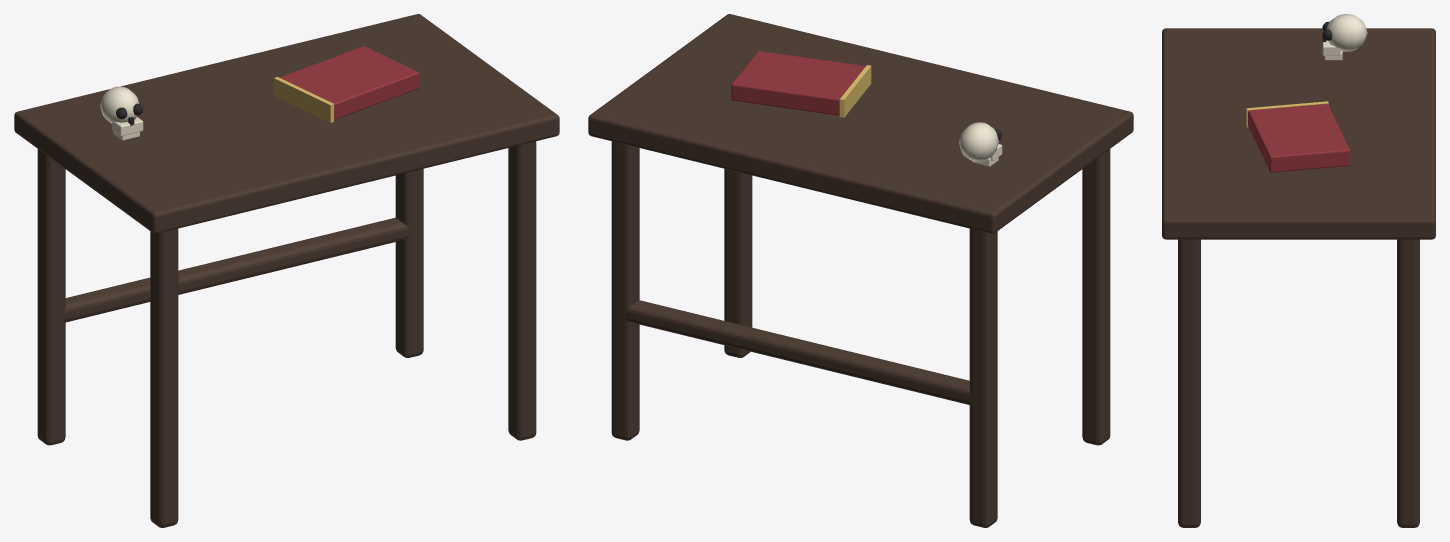
Rendered from student_desk_skull_desk.glb.
3 views of the same model, side by side, from view 1: azimuth 30°, elevation 25°; view 2: azimuth 150°, elevation 25°; view 3: azimuth 270°, elevation 25° (orthographic). The views are drawn at different scales.
Parts seen in each view (by area): view 1: GD_student_desk_skull_desk__m0, GD_student_desk_skull_desk__m4, GD_student_desk_skull_desk__m2, GD_student_desk_skull_desk__m6; view 2: GD_student_desk_skull_desk__m0, GD_student_desk_skull_desk__m4, GD_student_desk_skull_desk__m2, GD_student_desk_skull_desk__m6; view 3: GD_student_desk_skull_desk__m0, GD_student_desk_skull_desk__m4, GD_student_desk_skull_desk__m2.
Boxes of the visible parts, x1,y1,x2,y2 form: GD_student_desk_skull_desk__m0: [14, 14, 559, 527]; GD_student_desk_skull_desk__m4: [279, 46, 419, 120]; GD_student_desk_skull_desk__m2: [100, 86, 143, 140]; GD_student_desk_skull_desk__m6: [274, 77, 333, 122]; GD_student_desk_skull_desk__m0: [588, 14, 1133, 527]; GD_student_desk_skull_desk__m4: [731, 51, 865, 115]; GD_student_desk_skull_desk__m2: [959, 122, 1002, 166]; GD_student_desk_skull_desk__m6: [839, 65, 871, 117]; GD_student_desk_skull_desk__m0: [1162, 28, 1435, 527]; GD_student_desk_skull_desk__m4: [1248, 104, 1350, 172]; GD_student_desk_skull_desk__m2: [1322, 14, 1367, 60].
Bounding box in the file's own units: 1 × 0.8626 × 0.6.
